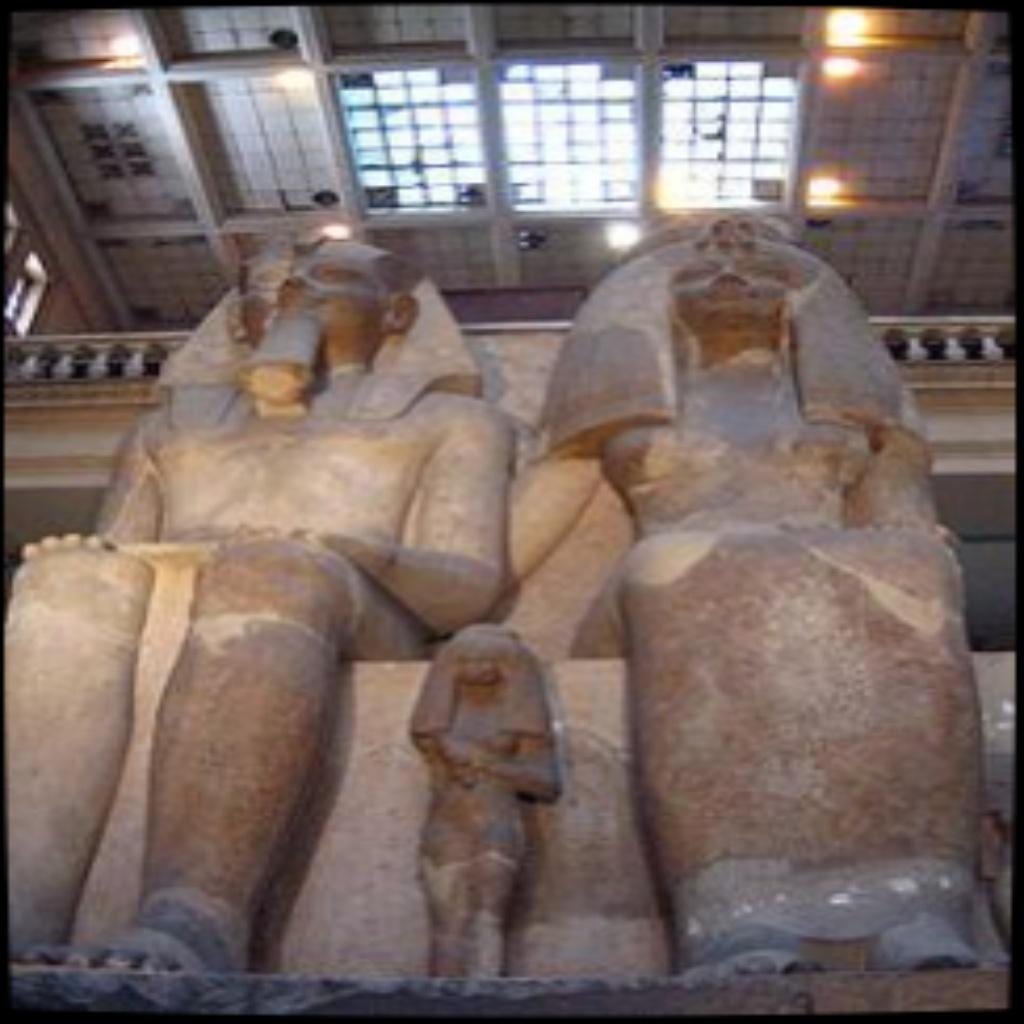Amenhotep III and Tiye: (4, 232, 1003, 978)
